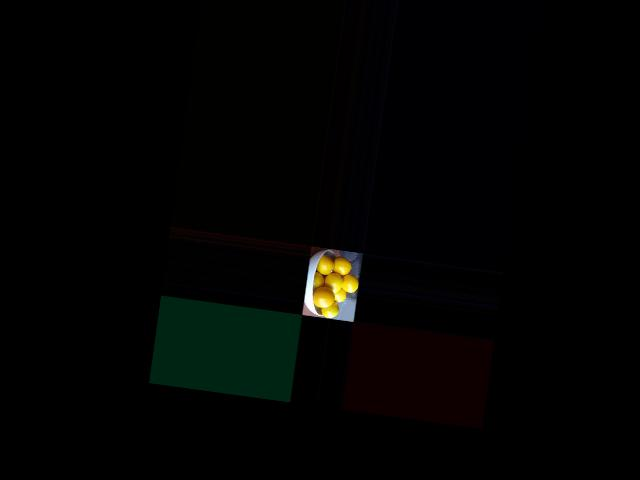lemon: (309, 272, 324, 288)
